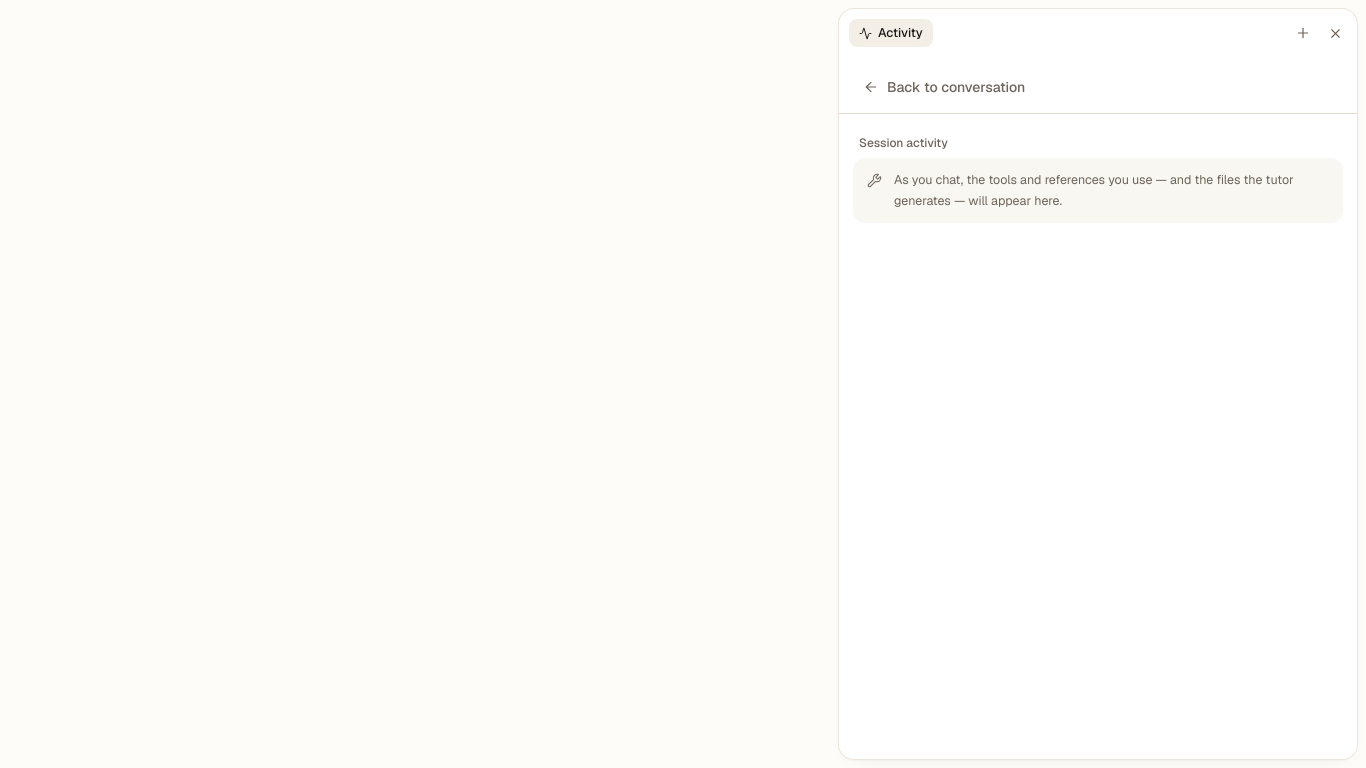
reuses the page's thread list instead of reading it again
Click the button named "New tab".
click(1303, 33)  # box [1289,19,1317,47]
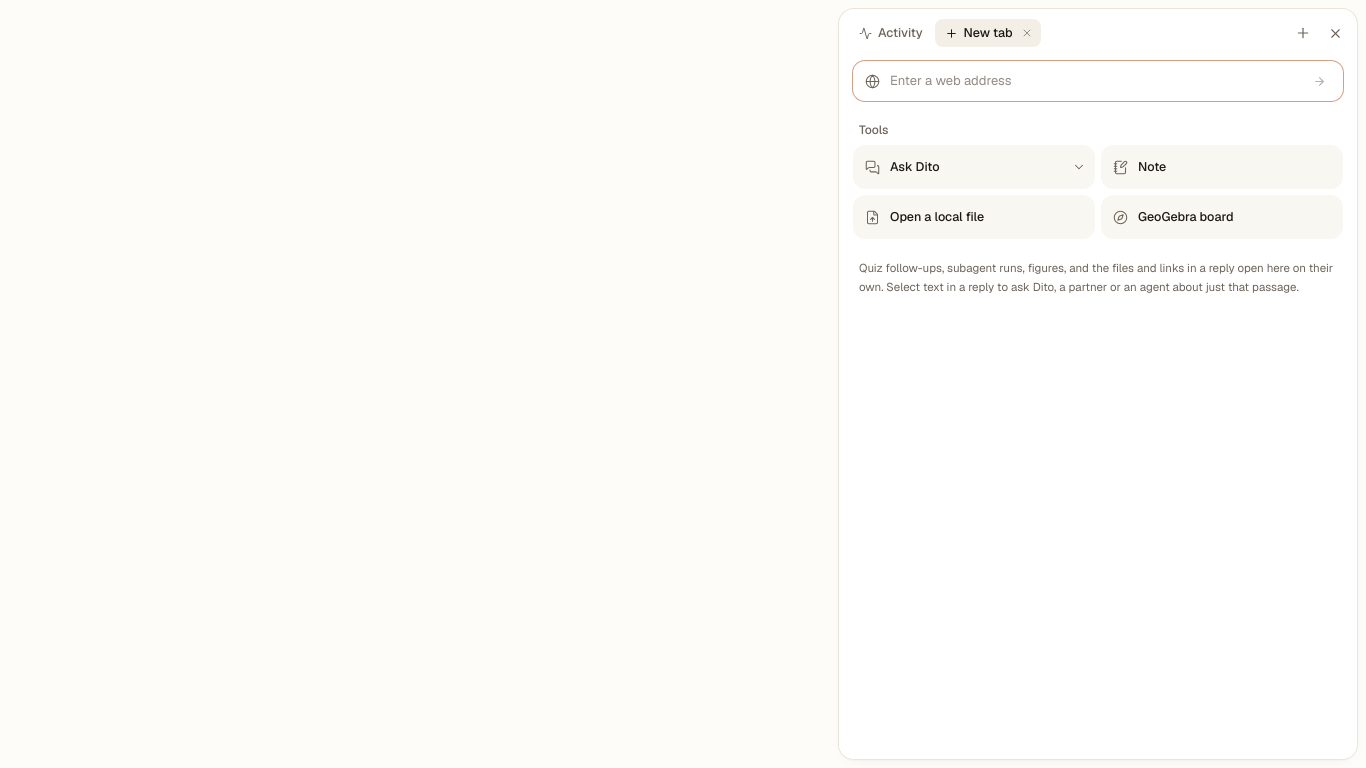
Expected: the field named "Open URL" is shown, [890,71,1297,91]
